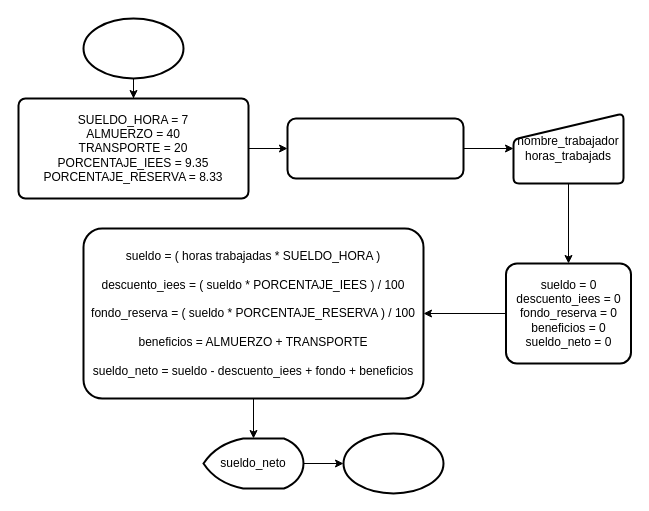
Some shapes in this 649 by 511 pixel diagram are drawn without their labels. Each missing label, with the centre of its shape:
"FIN" belongs at [393,463].
"INICIO" belongs at [133,48].
"nombre_trabajador = $ horas_trabajadas = 0" belongs at [375,148].
